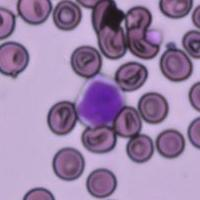L: (76, 72, 126, 129)
